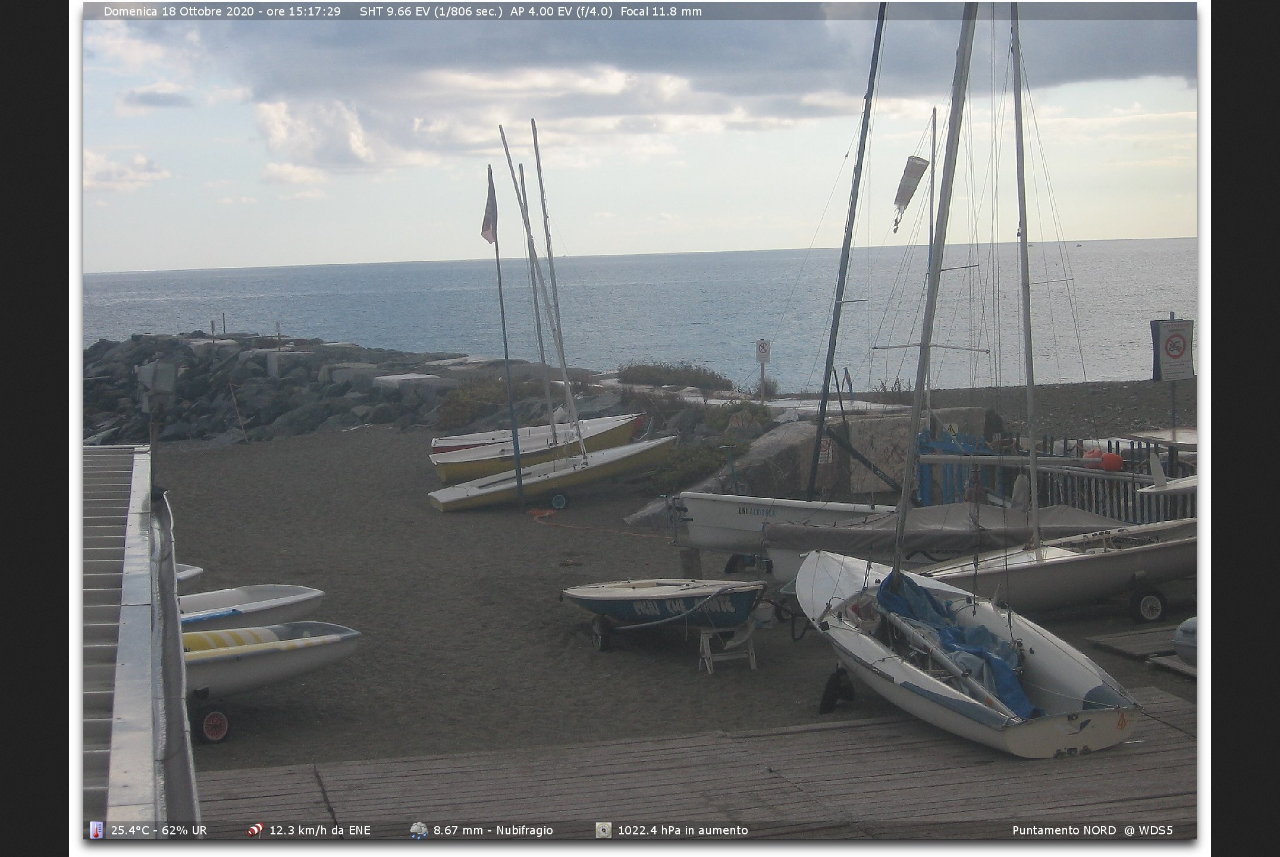no: (477, 169, 505, 252)
